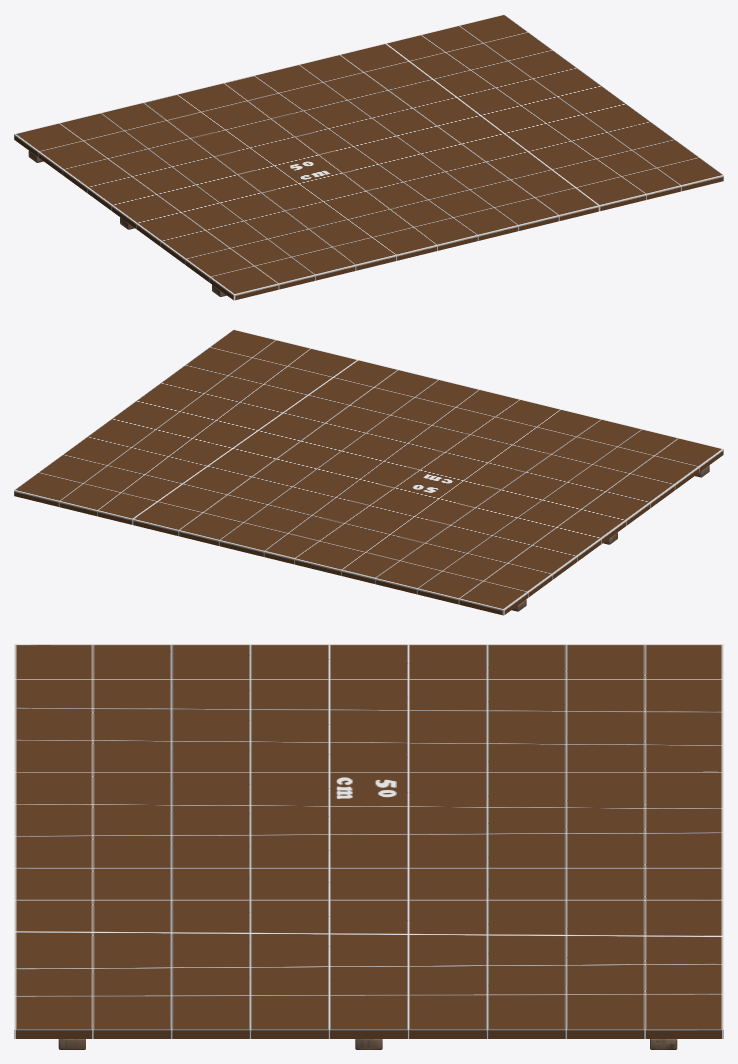
The model's file is Hangar01F_1.FBX.
3 views of the same model, one above another, from view 1: azimuth 30°, elevation 25°; view 2: azimuth 150°, elevation 25°; view 3: azimuth 270°, elevation 25° (orthographic). The views are drawn at different scales.
Visible parts, largest first — view 1: Hangar01F_1; view 2: Hangar01F_1; view 3: Hangar01F_1.
Boxes of the visible parts, x1,y1,x2,y2 form: Hangar01F_1: (14, 14, 723, 300); Hangar01F_1: (14, 329, 723, 615); Hangar01F_1: (14, 644, 723, 1049).
Size of what is drawn, in the model's own units: 4.5 by 0.1126 by 3.5.
